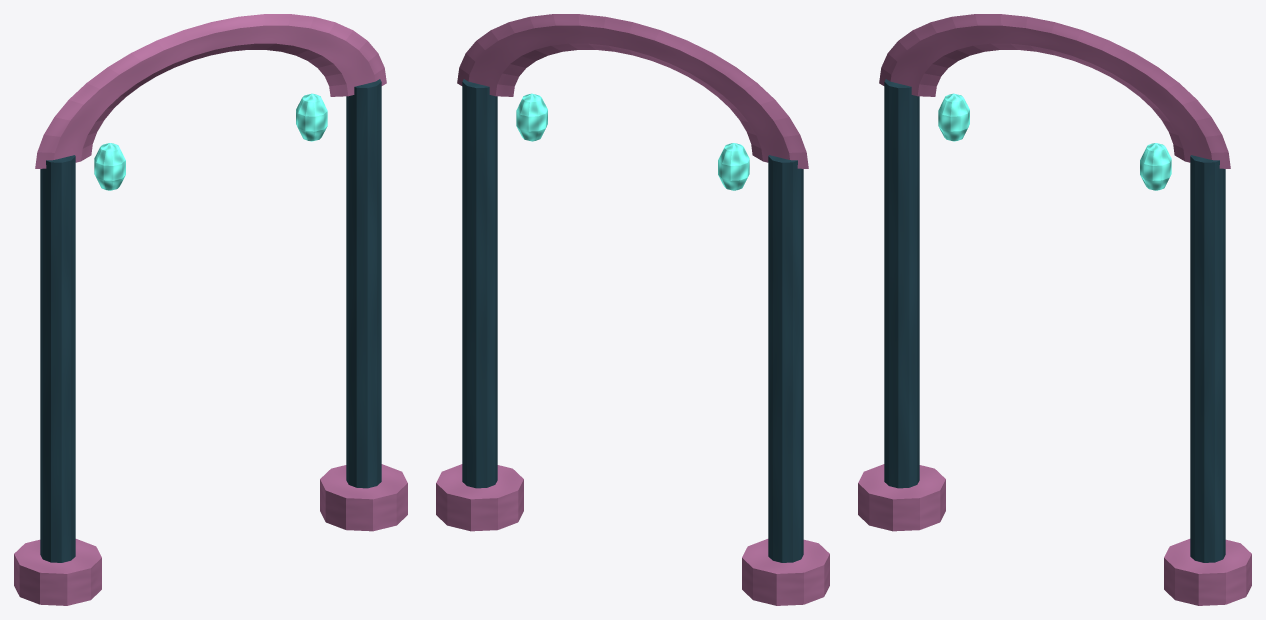
Rendered from atlas100-s061-a09.glb.
The picture shows the model from 3 angles, left to right: view 1: azimuth 30°, elevation 25°; view 2: azimuth 150°, elevation 25°; view 3: azimuth 330°, elevation 25°; orthographic projection.
Visible parts, largest first — view 1: atlas100-s061-a09:part-004, atlas100-s061-a09:part-000, atlas100-s061-a09:part-002, atlas100-s061-a09:part-001, atlas100-s061-a09:part-003, atlas100-s061-a09:part-006, atlas100-s061-a09:part-005; view 2: atlas100-s061-a09:part-004, atlas100-s061-a09:part-000, atlas100-s061-a09:part-002, atlas100-s061-a09:part-001, atlas100-s061-a09:part-003, atlas100-s061-a09:part-006, atlas100-s061-a09:part-005; view 3: atlas100-s061-a09:part-004, atlas100-s061-a09:part-002, atlas100-s061-a09:part-000, atlas100-s061-a09:part-003, atlas100-s061-a09:part-001, atlas100-s061-a09:part-005, atlas100-s061-a09:part-006.
Boxes of the visible parts, x1=… form: atlas100-s061-a09:part-004: x1=35, y1=14, x2=386, y2=168; atlas100-s061-a09:part-000: x1=40, y1=155, x2=75, y2=562; atlas100-s061-a09:part-002: x1=346, y1=79, x2=381, y2=488; atlas100-s061-a09:part-001: x1=14, y1=539, x2=101, y2=605; atlas100-s061-a09:part-003: x1=320, y1=464, x2=407, y2=531; atlas100-s061-a09:part-006: x1=296, y1=93, x2=327, y2=141; atlas100-s061-a09:part-005: x1=94, y1=143, x2=125, y2=190; atlas100-s061-a09:part-004: x1=457, y1=14, x2=808, y2=168; atlas100-s061-a09:part-000: x1=768, y1=155, x2=803, y2=562; atlas100-s061-a09:part-002: x1=462, y1=79, x2=497, y2=488; atlas100-s061-a09:part-001: x1=742, y1=539, x2=829, y2=605; atlas100-s061-a09:part-003: x1=436, y1=464, x2=523, y2=531; atlas100-s061-a09:part-006: x1=516, y1=93, x2=547, y2=141; atlas100-s061-a09:part-005: x1=718, y1=143, x2=749, y2=190; atlas100-s061-a09:part-004: x1=879, y1=14, x2=1230, y2=168; atlas100-s061-a09:part-002: x1=1190, y1=155, x2=1225, y2=562; atlas100-s061-a09:part-000: x1=884, y1=79, x2=919, y2=488; atlas100-s061-a09:part-003: x1=1164, y1=539, x2=1251, y2=605; atlas100-s061-a09:part-001: x1=858, y1=464, x2=945, y2=531; atlas100-s061-a09:part-005: x1=938, y1=93, x2=969, y2=141; atlas100-s061-a09:part-006: x1=1140, y1=143, x2=1171, y2=190.
Bounding box in the file's own units: 2.5 × 3.3 × 0.4755.
Materials: 3 (3 with a texture image).
